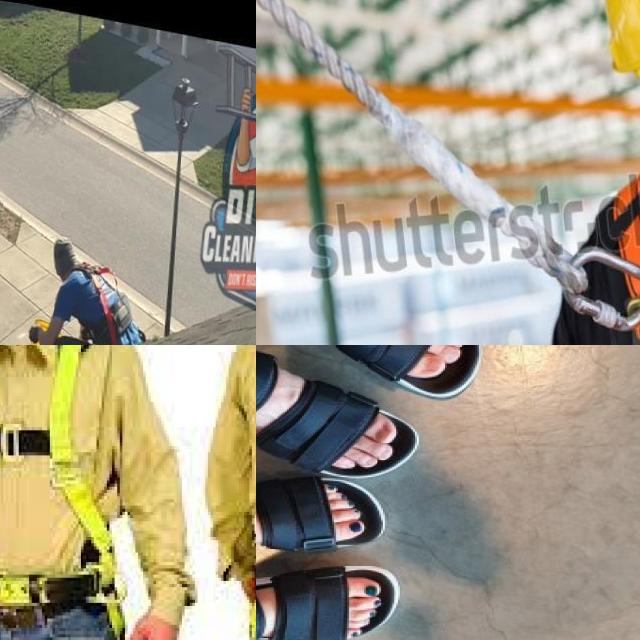Harness: (0, 345, 130, 640), (78, 263, 133, 345)
Sandals: (266, 345, 509, 391), (256, 477, 395, 549), (256, 574, 406, 640)
